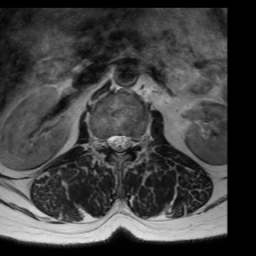CCS_normal: (116, 126, 123, 162)
LFS_normal: (132, 129, 141, 152)
LLS_normal: (123, 127, 132, 154)
RFS_normal: (99, 129, 108, 153)
RLS_normal: (108, 127, 116, 155)
